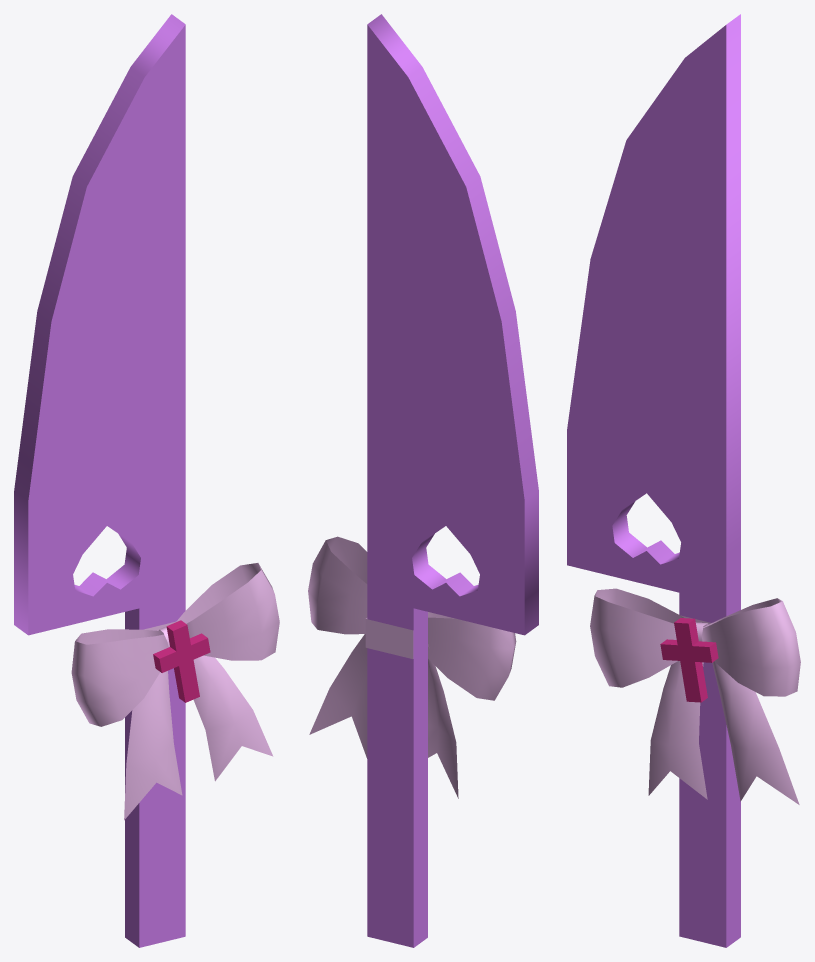
Rendered from knife.fbx.
3 renders of one model, left to right at view 1: azimuth 30°, elevation 25°; view 2: azimuth 150°, elevation 25°; view 3: azimuth 330°, elevation 25°, orthographic.
Visible parts, largest first — view 1: knife; view 2: knife; view 3: knife.
Boxes of the visible parts, x1=… form: knife: x1=14, y1=14, x2=279, y2=947; knife: x1=308, y1=14, x2=538, y2=947; knife: x1=567, y1=14, x2=800, y2=947.
Size of the model in its own units: 2.08 by 7.57 by 0.5201.
